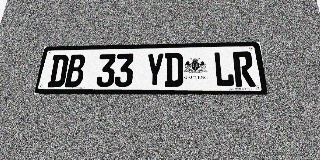3: (114, 53, 134, 87), (96, 54, 116, 87)
B: (64, 54, 86, 87)
D: (47, 55, 69, 87), (164, 52, 183, 87)
L: (213, 52, 235, 87)
R: (232, 51, 256, 87)
Y: (145, 53, 164, 87)
